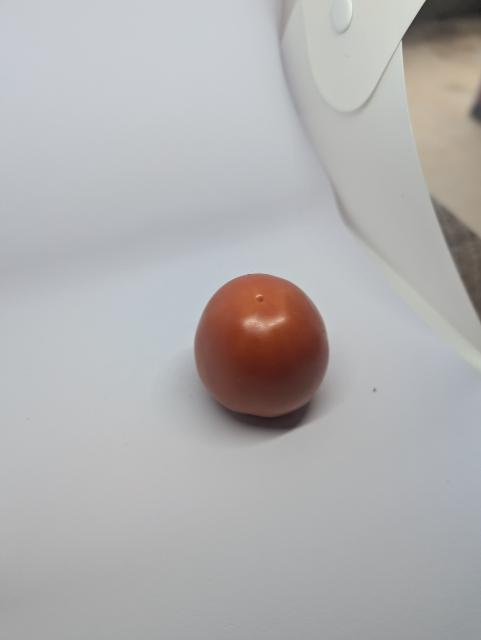red: (187, 265, 332, 430)
